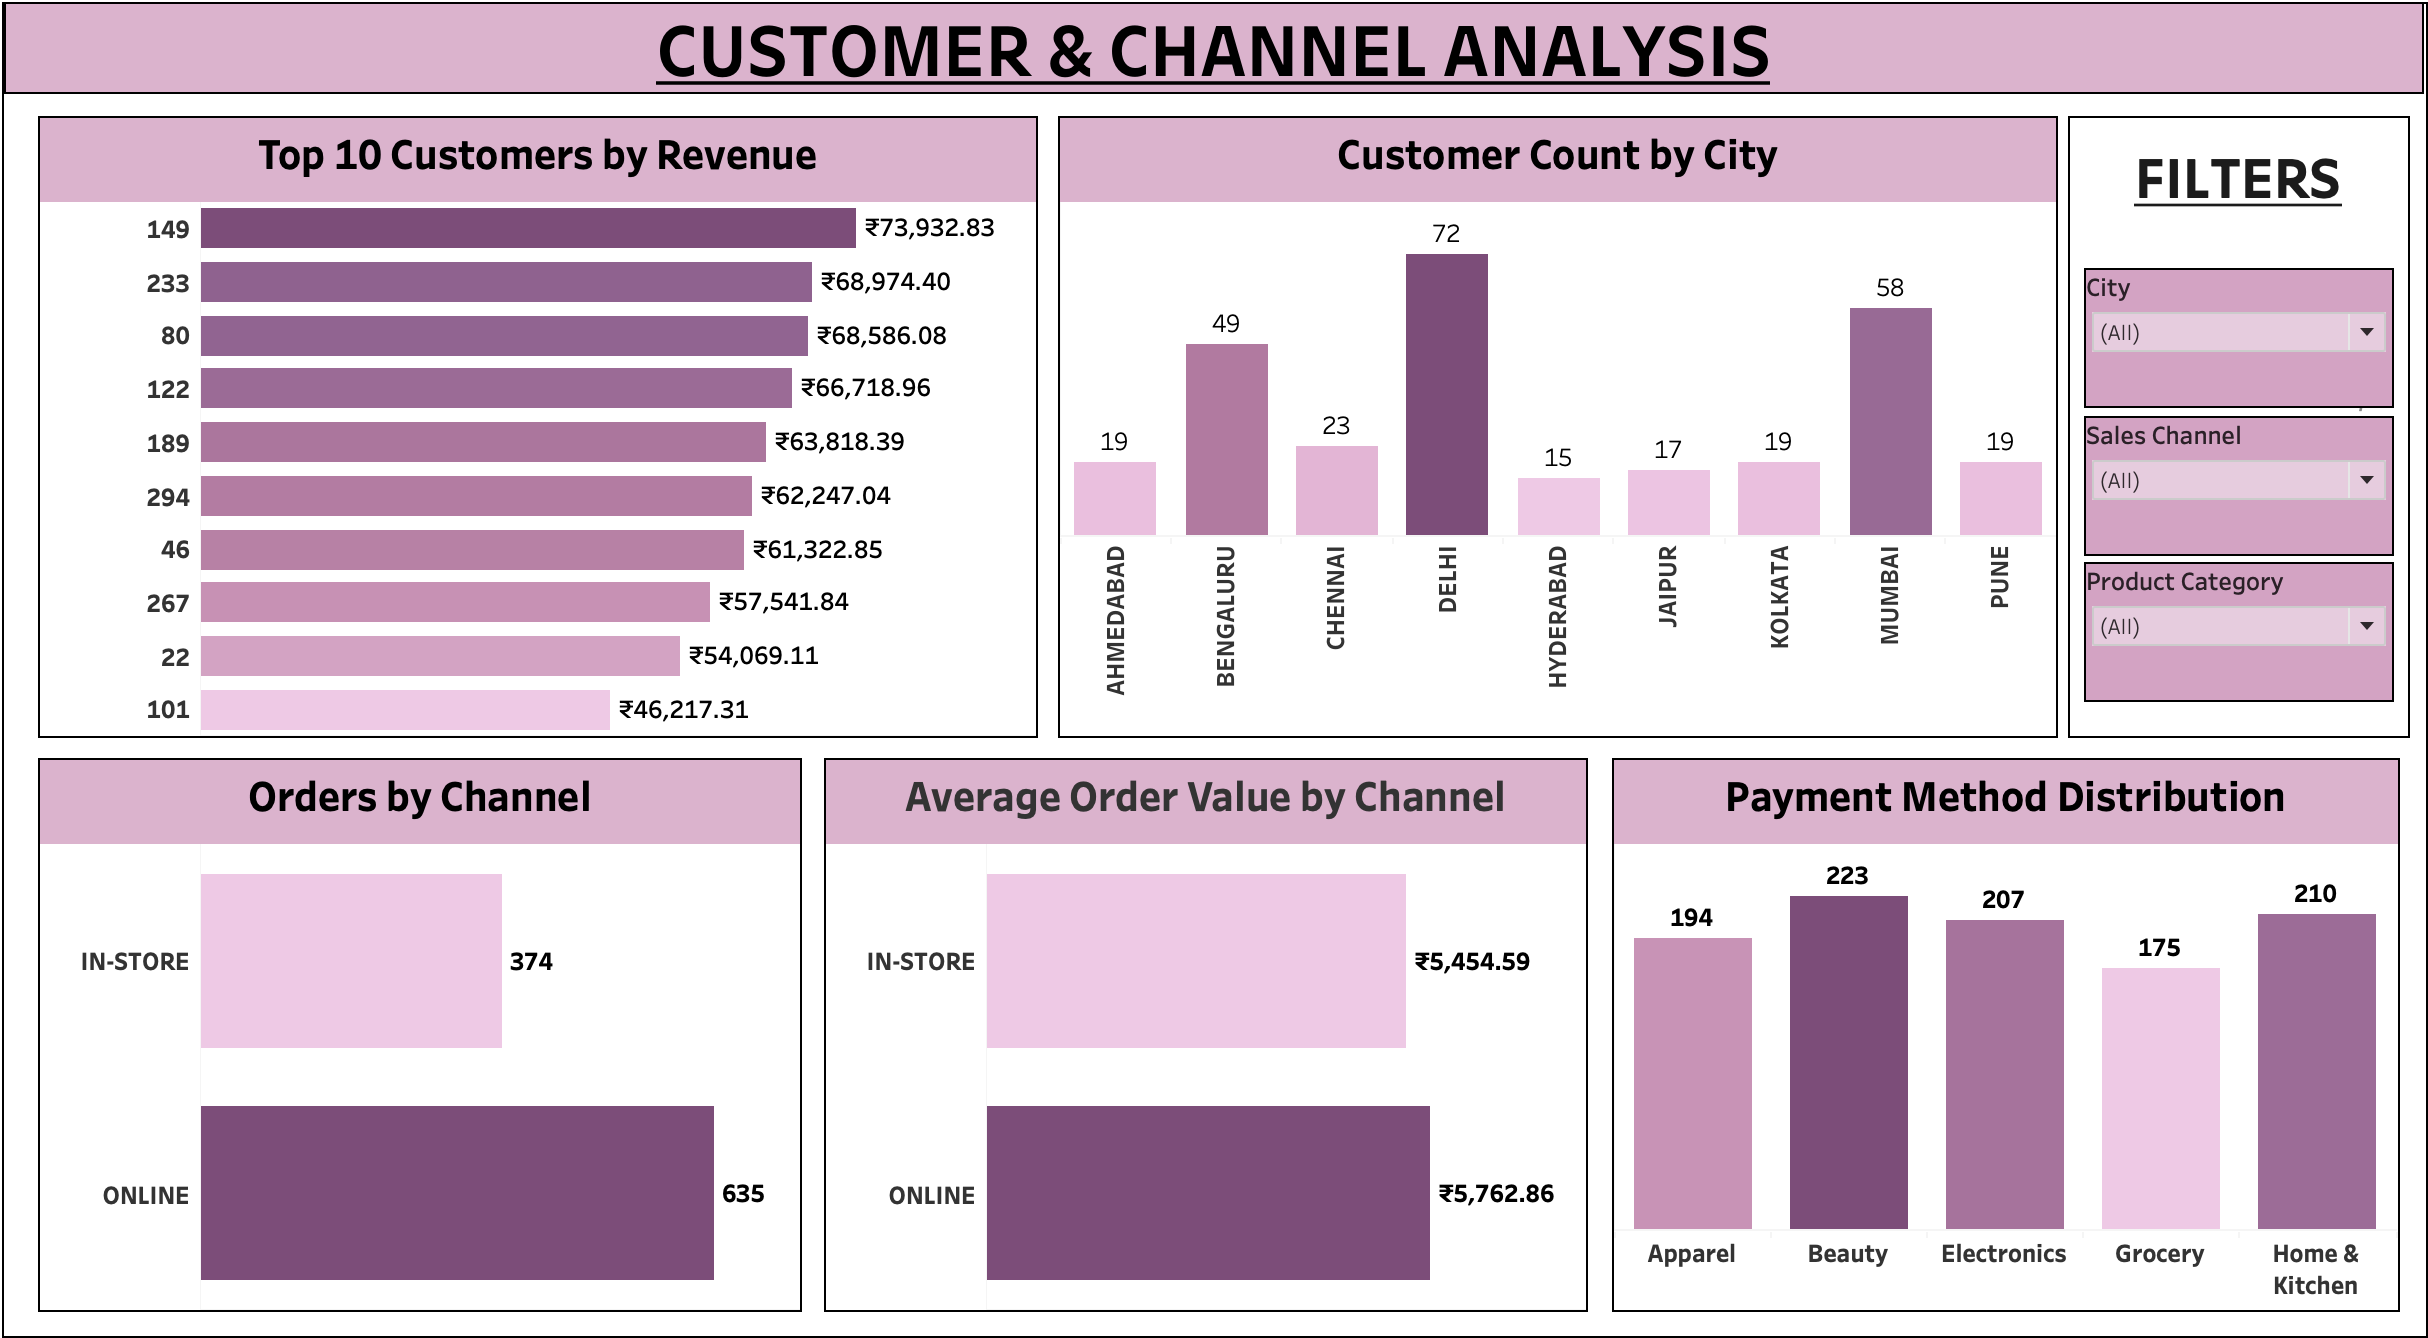

The dashboard page shown, as its layout file describes it:
{"tool":"tableau","page":{"name":"Dashboard 3","canvas":[1229,684],"ordinal":2},"visuals":[{"type":"text","box":[9,8,1210,46]},{"type":"worksheet","title":"Top 10 customers by revenue","mark":"Automatic","rows":["customer_id"],"cols":["total_amount"],"box":[26,65,500,311]},{"type":"worksheet","title":"Customer count by city","mark":"Automatic","rows":["customer_id"],"cols":["city"],"box":[536,65,500,311]},{"type":"text","box":[1042,67,169,57]},{"type":"filter","title":"Top 10 customers by revenue","param":"[federated.0u9i5l01yto5i41epqira1vtw49c].[none:city:nk]","box":[1049,141,155,70]},{"type":"filter","title":"Top 10 customers by revenue","param":"[federated.0u9i5l01yto5i41epqira1vtw49c].[none:sales_channel:nk]","box":[1049,215,155,70]},{"type":"filter","title":"Top 10 customers by revenue","param":"[federated.0u9i5l01yto5i41epqira1vtw49c].[none:product_category:nk]","box":[1049,288,155,70]},{"type":"worksheet","title":"Orders by channel","mark":"Automatic","rows":["sales_channel"],"cols":["order_id"],"box":[26,386,382,277]},{"type":"worksheet","title":"Average Order Value by channel","mark":"Automatic","rows":["sales_channel"],"cols":["total_amount"],"box":[419,386,382,277]},{"type":"worksheet","title":"Payment method distribution","mark":"Automatic","rows":["order_id"],"cols":["product_category"],"box":[813,386,394,277]}]}

Visuals, with their boxes in screenshot pixels (x1, y1, x2, y2), scaled from the page's 1229x684 canvas onto the 2428x1338 screenshot:
text: [x1=18, y1=16, x2=2408, y2=106]
"Top 10 customers by revenue" worksheet: [x1=51, y1=127, x2=1039, y2=736]
"Customer count by city" worksheet: [x1=1059, y1=127, x2=2047, y2=736]
text: [x1=2059, y1=131, x2=2392, y2=243]
"Top 10 customers by revenue" filter: [x1=2072, y1=276, x2=2379, y2=413]
"Top 10 customers by revenue" filter: [x1=2072, y1=421, x2=2379, y2=558]
"Top 10 customers by revenue" filter: [x1=2072, y1=563, x2=2379, y2=700]
"Orders by channel" worksheet: [x1=51, y1=755, x2=806, y2=1297]
"Average Order Value by channel" worksheet: [x1=828, y1=755, x2=1582, y2=1297]
"Payment method distribution" worksheet: [x1=1606, y1=755, x2=2385, y2=1297]
